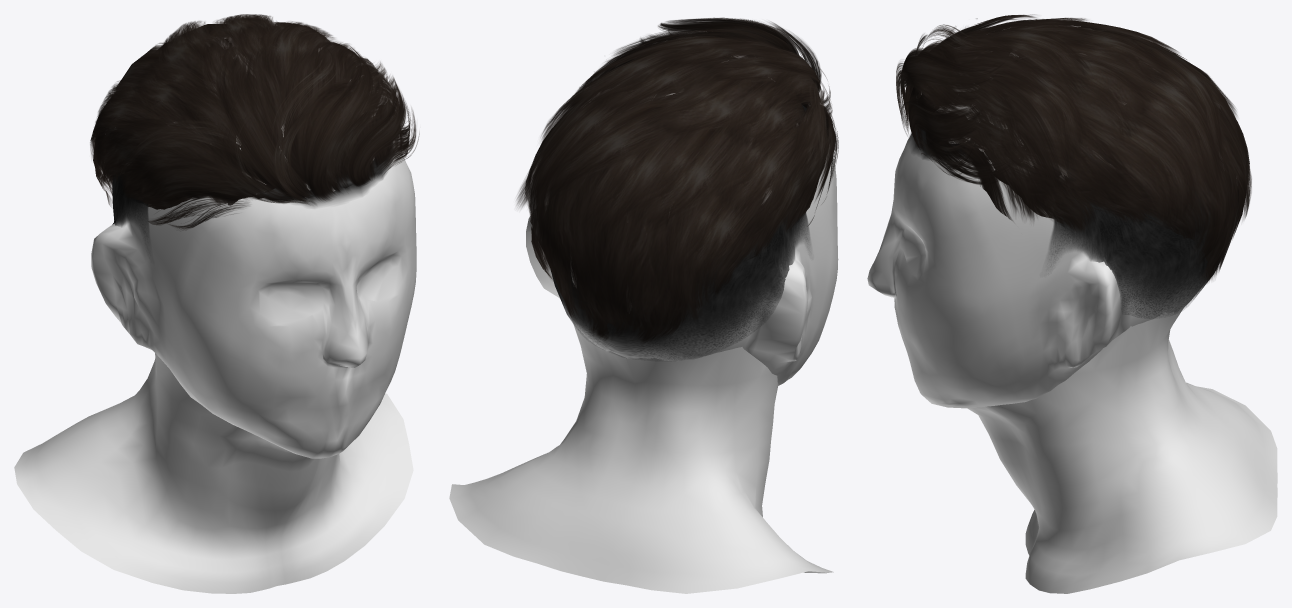
File: Wavy Quiff.glb
The picture shows the model from 3 angles, left to right: view 1: azimuth 30°, elevation 25°; view 2: azimuth 150°, elevation 25°; view 3: azimuth 270°, elevation 25°; orthographic projection. The views are drawn at different scales.
Visible parts, largest first — view 1: KUPING BARU.001, NECK - OVAL SHAPE.002, round wavy 03 quiff, base; view 2: round wavy 03 quiff, NECK - OVAL SHAPE.002, KUPING BARU.001, base; view 3: round wavy 03 quiff, NECK - OVAL SHAPE.002, KUPING BARU.001, base.
Part boxes in pixels (box(x1,y1,x2,y2)): KUPING BARU.001: box(91, 57, 416, 458); NECK - OVAL SHAPE.002: box(14, 353, 413, 593); round wavy 03 quiff: box(90, 14, 419, 230); base: box(112, 142, 392, 248); round wavy 03 quiff: box(516, 17, 838, 343); NECK - OVAL SHAPE.002: box(449, 319, 833, 593); KUPING BARU.001: box(526, 93, 838, 385); base: box(550, 105, 810, 360); round wavy 03 quiff: box(896, 14, 1251, 282); NECK - OVAL SHAPE.002: box(967, 308, 1277, 593); KUPING BARU.001: box(867, 53, 1205, 408); base: box(909, 128, 1231, 318).
Bounding box in the file's own units: 0.2726 × 0.3843 × 0.2669.
3 materials, 2 textured.
